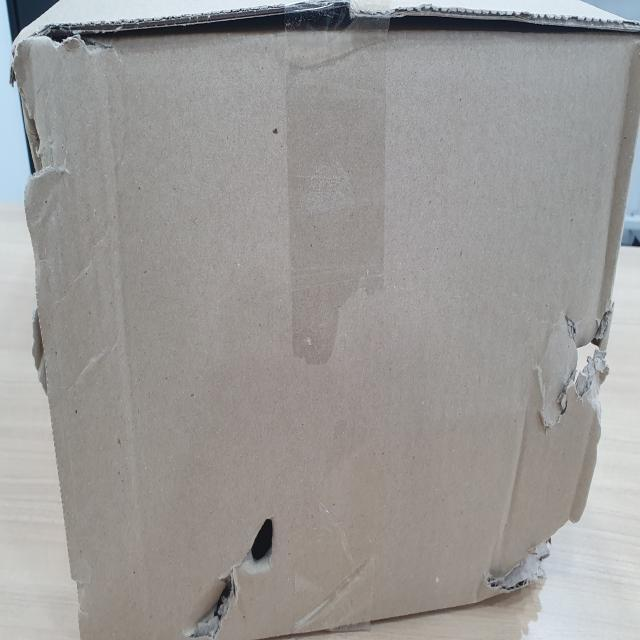hole: (519, 286, 615, 404), (493, 490, 588, 606), (196, 567, 238, 637), (242, 513, 280, 571)
